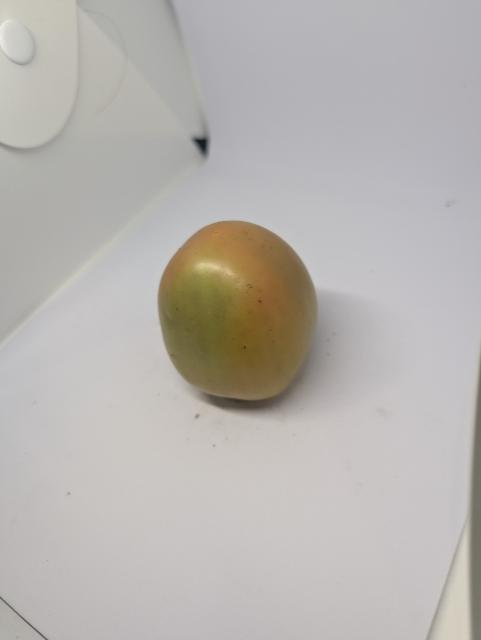breaker: (159, 221, 318, 400)
